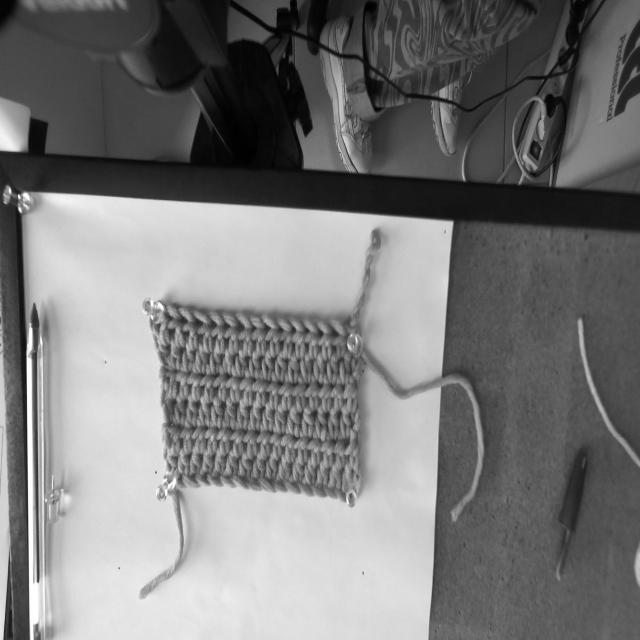ch: (229, 474, 250, 490), (181, 475, 201, 491), (295, 482, 316, 497), (257, 479, 277, 494), (242, 478, 263, 491), (282, 480, 300, 494), (306, 485, 327, 497), (332, 488, 347, 502), (207, 474, 224, 486), (195, 472, 209, 486), (219, 476, 234, 489), (322, 488, 338, 499), (270, 481, 287, 491)
hdc: (189, 309, 213, 353), (205, 310, 227, 355), (176, 307, 198, 351), (273, 316, 293, 359), (165, 305, 185, 348), (287, 318, 306, 362), (300, 318, 319, 361), (248, 315, 267, 358), (235, 313, 253, 358), (328, 316, 346, 360), (261, 315, 279, 359), (314, 320, 332, 362), (221, 315, 239, 357), (277, 371, 294, 412), (252, 368, 269, 408), (317, 372, 333, 414), (291, 372, 307, 413), (304, 373, 320, 413), (225, 365, 241, 405), (238, 368, 254, 407), (213, 364, 229, 403), (187, 363, 203, 402), (280, 425, 296, 463), (307, 427, 322, 467), (346, 430, 361, 470), (243, 421, 258, 460), (216, 418, 231, 456), (200, 364, 215, 402), (293, 429, 309, 464), (230, 421, 245, 458), (321, 431, 336, 468), (343, 375, 358, 412), (329, 375, 344, 412), (256, 422, 270, 461), (276, 453, 294, 483), (266, 371, 280, 409), (166, 423, 181, 457), (335, 432, 348, 469), (175, 363, 188, 400), (269, 424, 282, 460), (339, 350, 351, 389), (222, 449, 237, 479), (264, 449, 278, 481), (287, 403, 300, 437), (224, 396, 237, 430), (210, 395, 223, 429), (338, 405, 351, 439), (192, 427, 208, 454), (315, 405, 327, 441), (198, 394, 211, 427), (250, 451, 265, 479), (302, 402, 314, 437), (237, 396, 249, 431), (262, 347, 274, 382), (185, 395, 198, 427), (326, 351, 338, 385), (315, 459, 329, 488), (211, 448, 225, 477), (205, 427, 219, 456), (195, 341, 207, 374), (160, 314, 172, 347), (302, 457, 316, 485), (235, 348, 248, 378), (182, 341, 194, 373), (275, 351, 287, 383), (237, 450, 251, 477), (161, 395, 175, 422), (250, 401, 262, 432), (165, 368, 177, 399), (300, 352, 312, 383), (312, 353, 324, 384), (328, 462, 341, 490), (190, 450, 203, 478), (341, 463, 353, 493), (275, 402, 286, 434), (170, 339, 181, 371), (288, 352, 299, 384), (200, 451, 213, 478), (262, 402, 274, 431), (174, 395, 185, 426), (328, 406, 338, 440), (178, 448, 190, 476), (221, 347, 233, 375), (210, 344, 221, 374), (158, 342, 171, 367), (249, 350, 260, 379), (292, 457, 304, 483), (181, 428, 192, 454)
